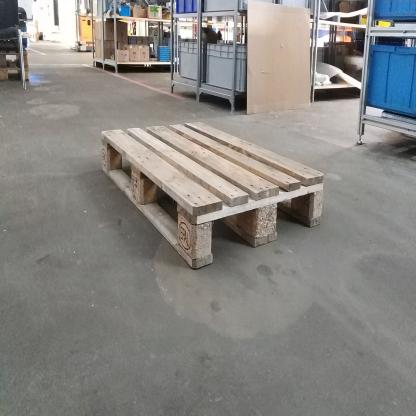BoxFace: (99, 117, 328, 276)
